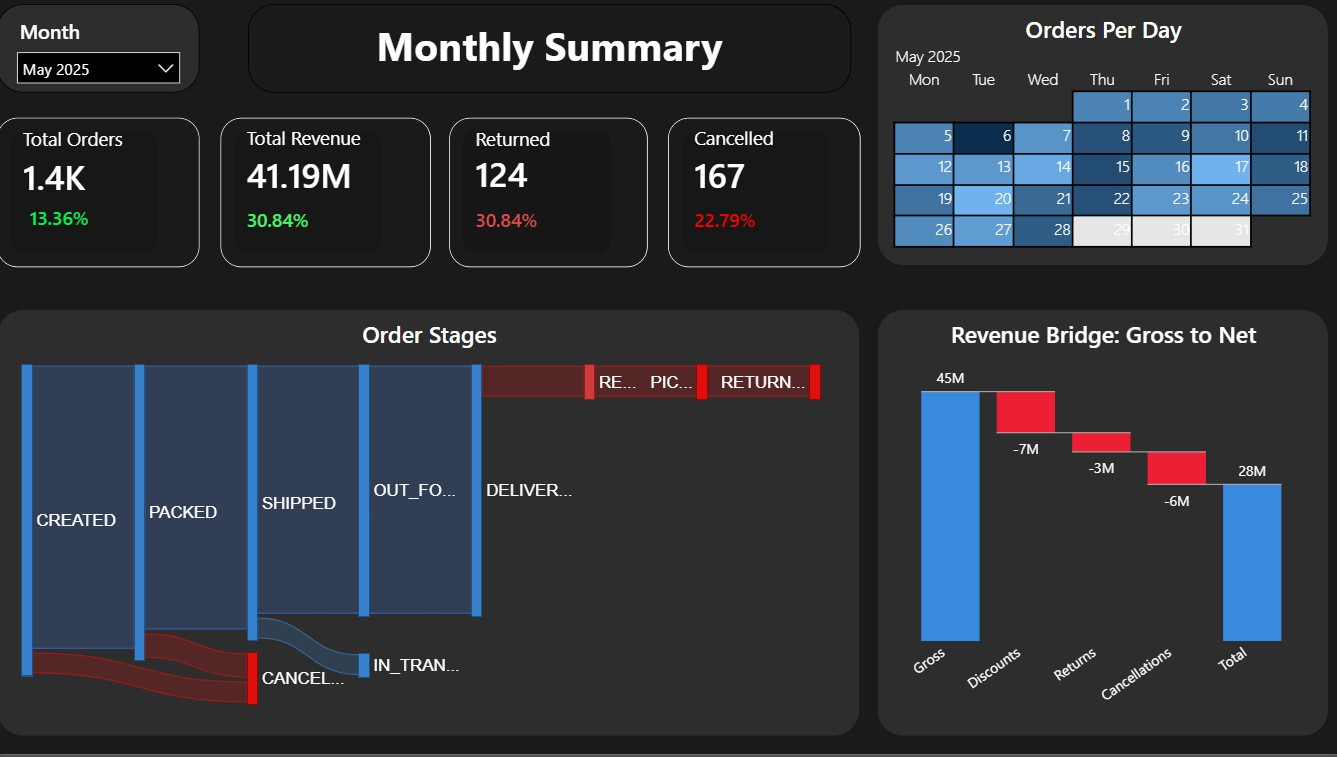

Layout of this report page (visuals, bound fields, positions):
{"tool":"powerbi","page":{"name":"Monthly summary","canvas":[1280,720],"ordinal":0},"visuals":[{"type":"slicer","fields":{"Values":["Date.MonthName"]},"box":[4.1,9.6,192.1,83.7],"z":0},{"type":"cardVisual","title":"Orders","fields":{"Data":["CUSTOMER_DIM (2).Total Revenue"]},"box":[215.4,116.6,199,141.3],"z":1000},{"type":"cardVisual","title":"Orders","fields":{"Data":["ORDERS_TIER1.Cancelled Orders"]},"box":[639.5,116.6,182.5,141.3],"z":2000},{"type":"cardVisual","title":"Orders","fields":{"Data":["ORDERS_TIER1.Returned Orders"]},"box":[432.2,116.6,188,141.3],"z":3000},{"type":"bciCalendarCC0FA2BFE4B54EE1ACCFE383B9B1DE61","title":"Orders Per Day","fields":{"category":["Date.Date"],"measure":["ORDERS_TIER1.Total Orders Order"]},"box":[837.1,9.6,428.1,248.4],"z":4000},{"type":"waterfallChart","title":"Revenue Bridge: Gross to Net","fields":{"Category":["Waterfall Categories.Category"],"Y":["Waterfall Categories.Waterfall Value"]},"box":[837.1,297.8,428.1,404.8],"z":5000},{"type":"sankey02300D1BE6F5427989F3DE31CCA9E0F32020","title":"Order Stages","fields":{"Source":["ORDER_STAGE_TRANSITION.FROM_STAGE"],"Destination":["ORDER_STAGE_TRANSITION.TO_STAGE"],"Weight":["ORDER_STAGE_TRANSITION.Order Count"]},"box":[4.1,297.8,817.8,404.8],"z":6000},{"type":"cardVisual","title":"Orders","fields":{"Data":["ORDERS_TIER1.Total Orders Order"]},"box":[4.1,116.6,192.1,141.3],"z":7000},{"type":"textbox","box":[241.5,9.6,570.8,83.7],"z":8000}]}

Visuals, with their boxes in screenshot pixels (x1, y1, x2, y2), scaled from the page's 1280x720 canvas onto the 1337x757 screenshot:
slicer - Date.MonthName: {"x1": 4, "y1": 10, "x2": 205, "y2": 98}
"Orders" cardVisual: {"x1": 225, "y1": 123, "x2": 433, "y2": 271}
"Orders" cardVisual: {"x1": 668, "y1": 123, "x2": 859, "y2": 271}
"Orders" cardVisual: {"x1": 451, "y1": 123, "x2": 648, "y2": 271}
"Orders Per Day" bciCalendarCC0FA2BFE4B54EE1ACCFE383B9B1DE61: {"x1": 874, "y1": 10, "x2": 1322, "y2": 271}
"Revenue Bridge: Gross to Net" waterfallChart: {"x1": 874, "y1": 313, "x2": 1322, "y2": 739}
"Order Stages" sankey02300D1BE6F5427989F3DE31CCA9E0F32020: {"x1": 4, "y1": 313, "x2": 859, "y2": 739}
"Orders" cardVisual: {"x1": 4, "y1": 123, "x2": 205, "y2": 271}
textbox: {"x1": 252, "y1": 10, "x2": 848, "y2": 98}
